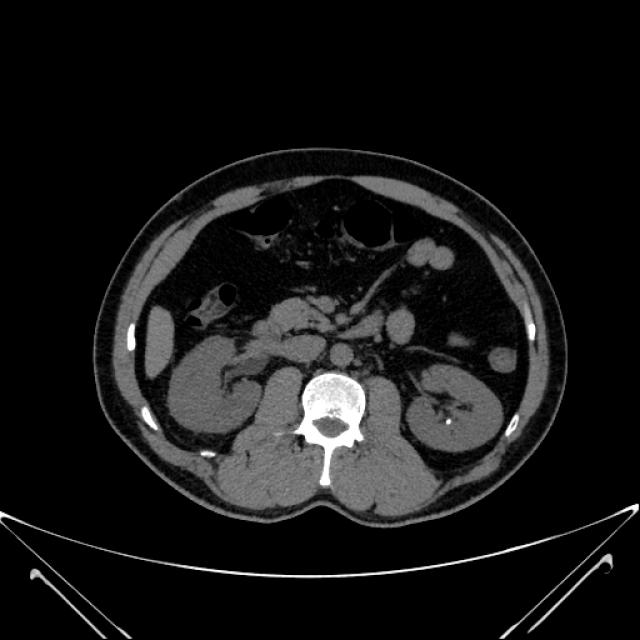kidneystone: (445, 418, 452, 424)
